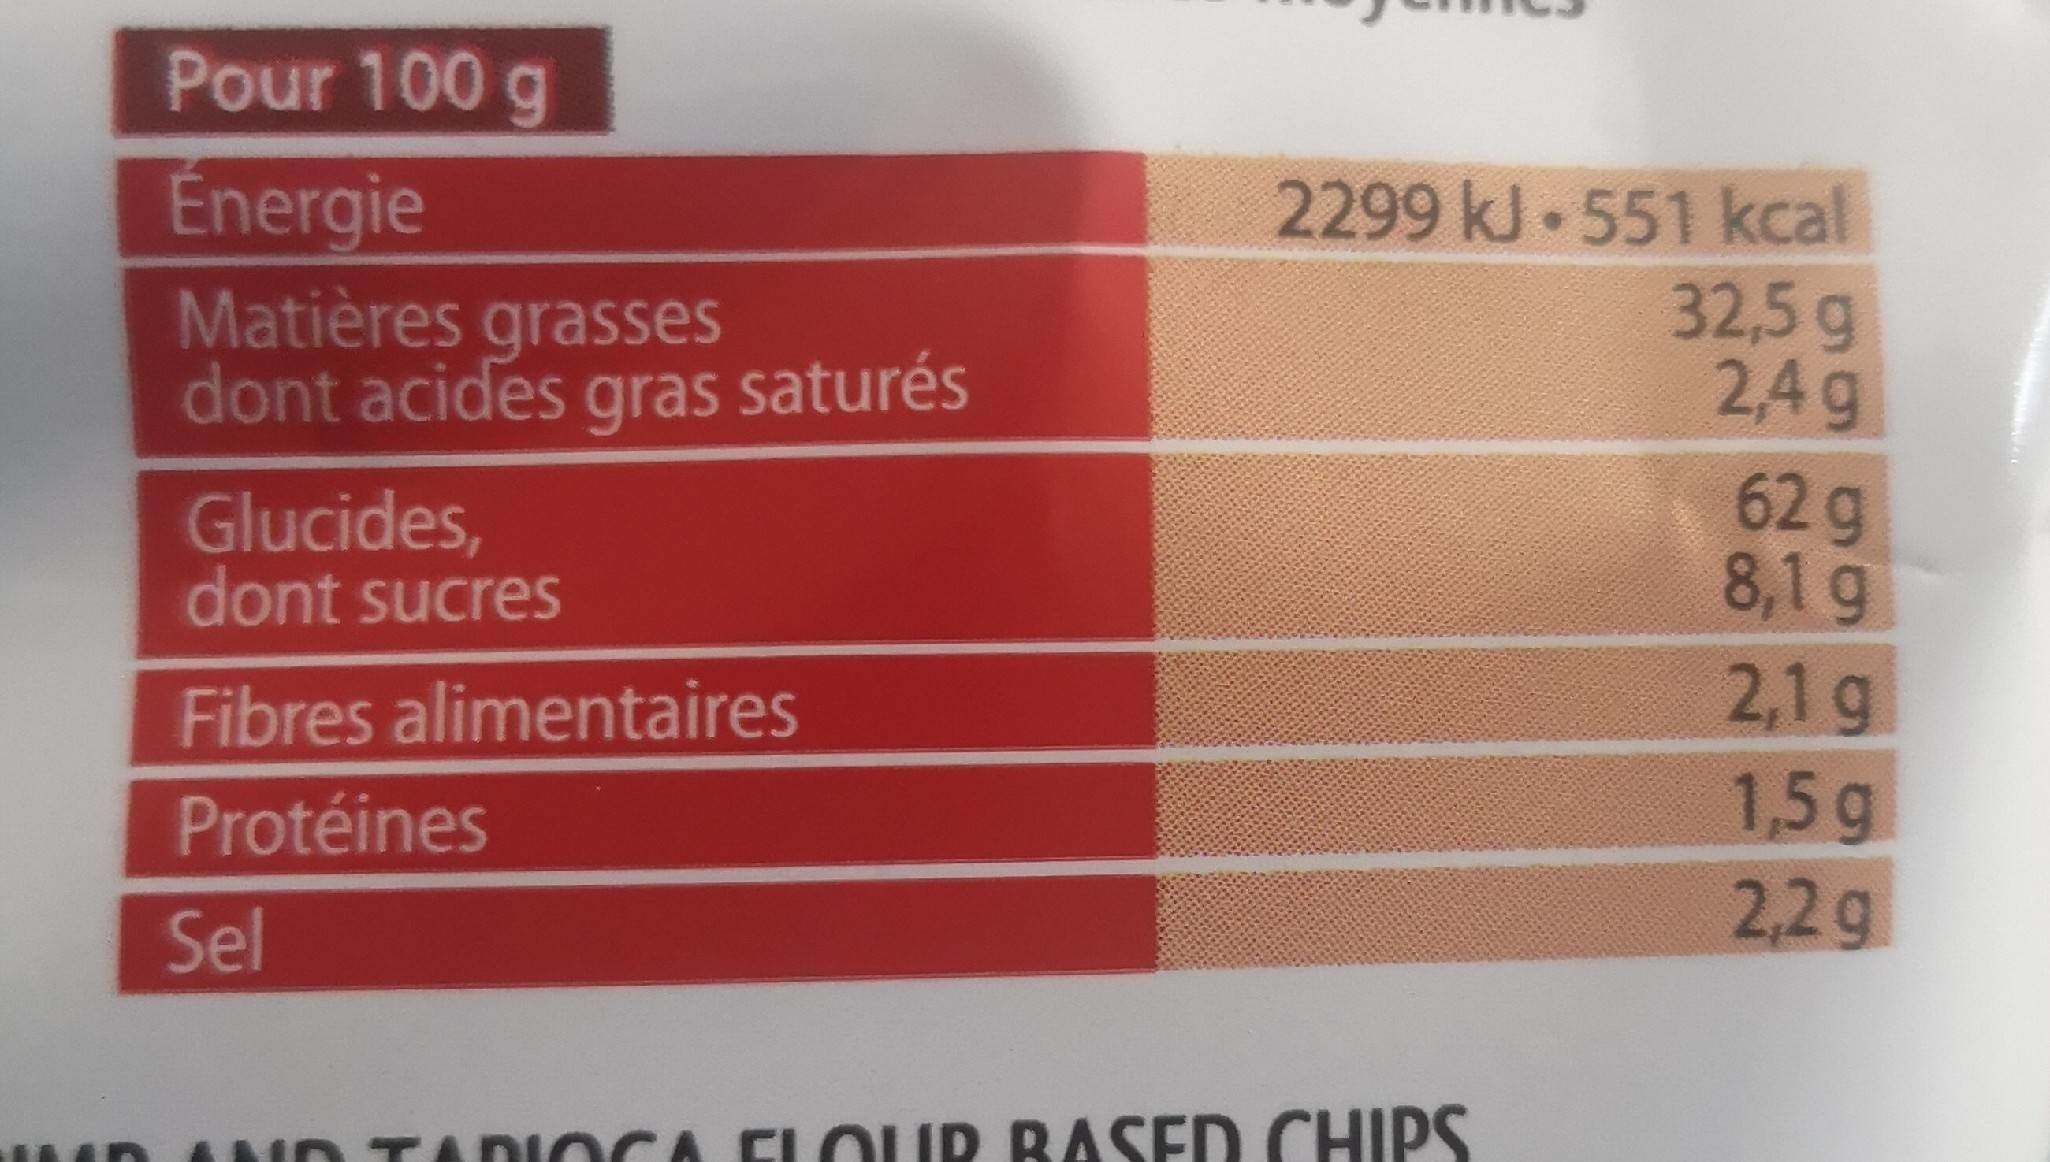column: (161, 161, 969, 970), (1273, 175, 1880, 951)
table: (111, 151, 1928, 1004)
